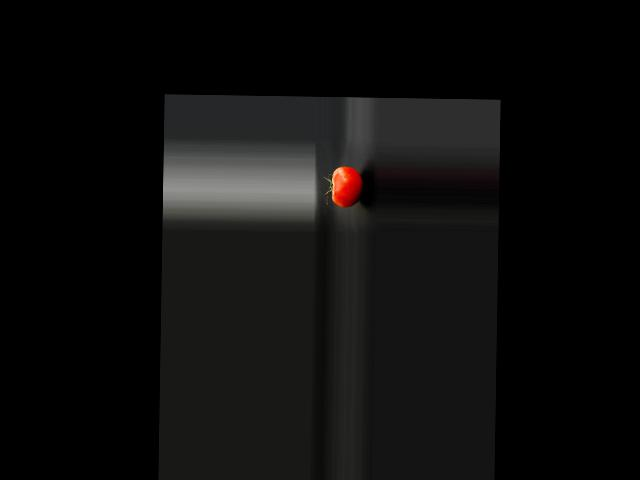tomato: (331, 165, 363, 207)
